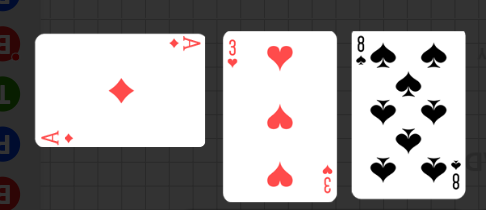10S: (449, 157, 462, 191)
AD: (40, 127, 76, 144), (166, 37, 201, 53)
